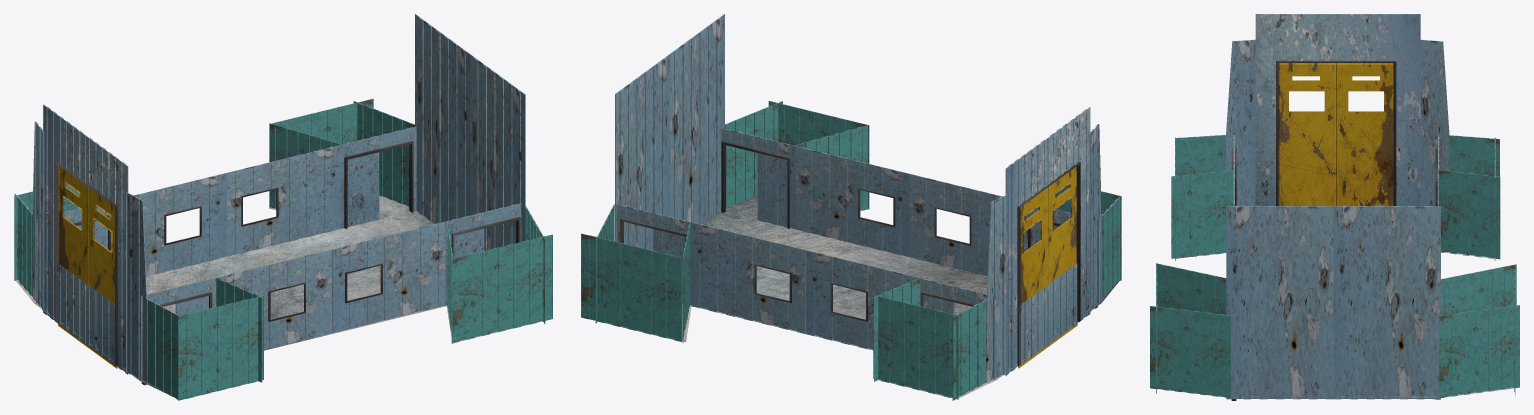
The model's file is SceneFloor.fbx.
The picture shows the model from 3 angles, left to right: view 1: azimuth 30°, elevation 25°; view 2: azimuth 150°, elevation 25°; view 3: azimuth 270°, elevation 25°; orthographic projection. The views are drawn at different scales.
Parts seen in each view (by area): view 1: polySurface339; view 2: polySurface339; view 3: polySurface339.
Part boxes in pixels (x1,y1,x2,y2): polySurface339: [14, 14, 552, 400]; polySurface339: [581, 14, 1121, 400]; polySurface339: [1150, 14, 1519, 400].
Size of the model in its own units: 869 by 455 by 741.
